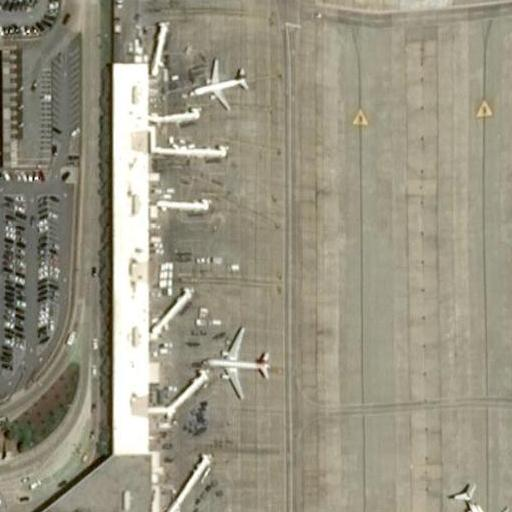Aircraft: (196, 320, 273, 403), (185, 55, 249, 112), (445, 479, 512, 512)
